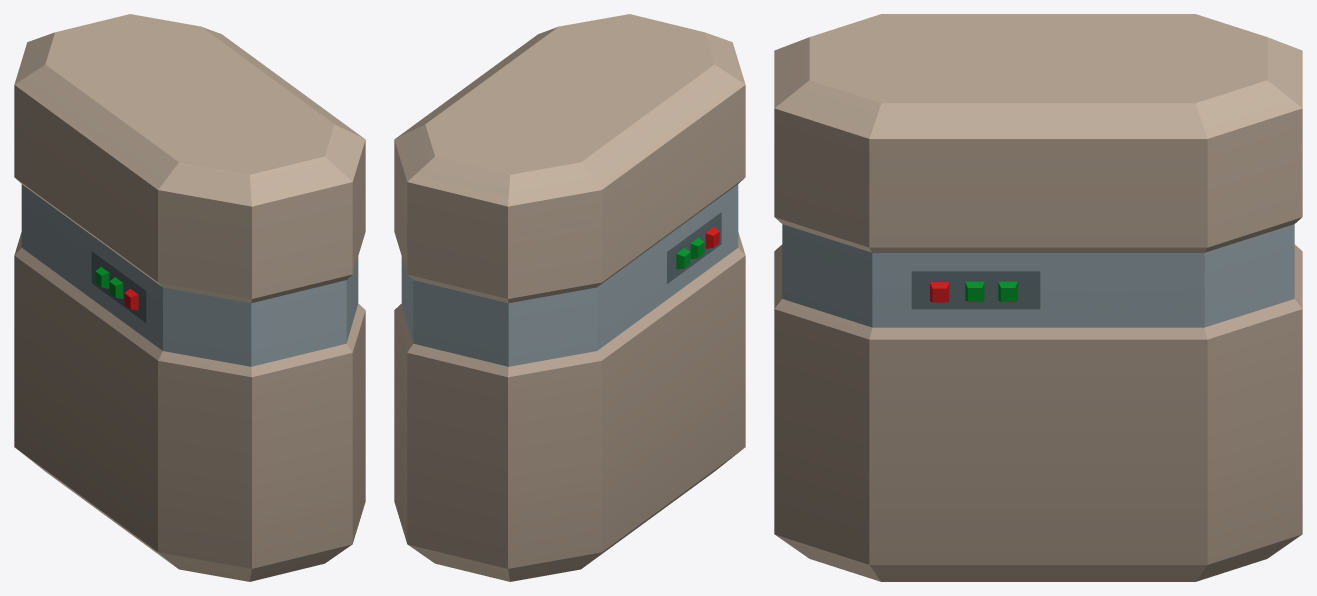
Rendered from Delivery_drone_012_crate_001.fbx.
3 views of the same model, side by side, from view 1: azimuth 30°, elevation 25°; view 2: azimuth 150°, elevation 25°; view 3: azimuth 270°, elevation 25° (orthographic). The views are drawn at different scales.
Visible parts, largest first — view 1: Delivery_drone_012_crate_001; view 2: Delivery_drone_012_crate_001; view 3: Delivery_drone_012_crate_001.
Part boxes in pixels (box(x1,y1,x2,y2)): Delivery_drone_012_crate_001: box(14, 14, 365, 581); Delivery_drone_012_crate_001: box(394, 14, 745, 581); Delivery_drone_012_crate_001: box(774, 14, 1302, 581).
Bounding box in the file's own units: 32.23 × 60 × 60.
